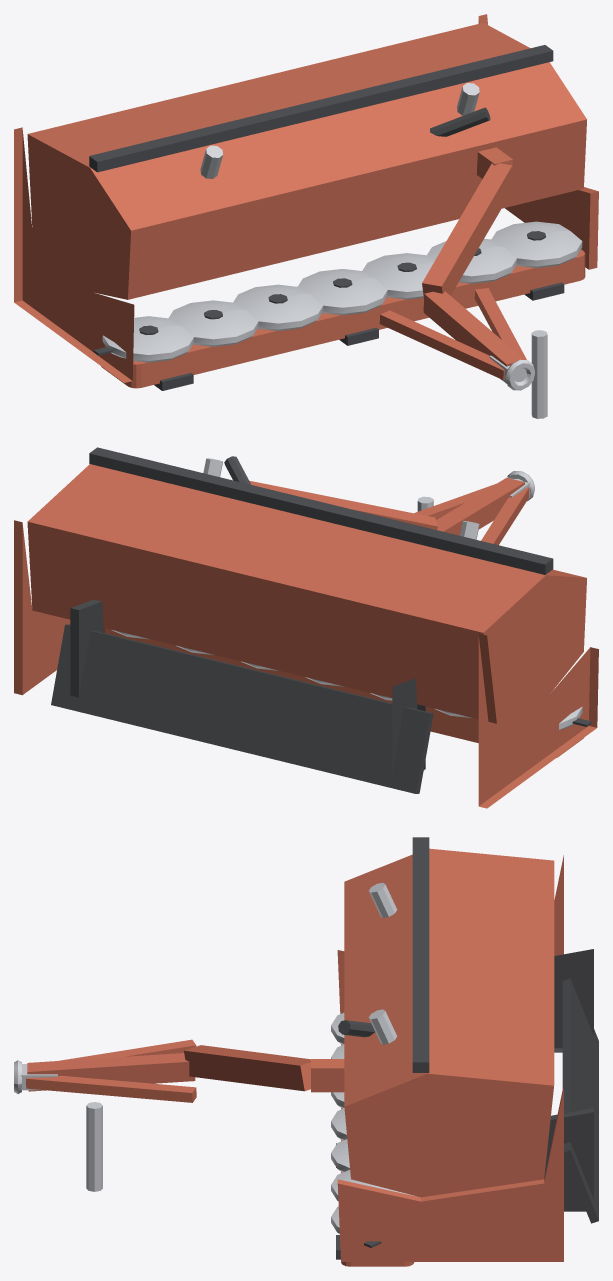
File: arable-fields-and-farm-machinery-mower-conditioner-d2c02d9d__16858.glb
The picture shows the model from 3 angles, top to bottom: view 1: azimuth 30°, elevation 25°; view 2: azimuth 150°, elevation 25°; view 3: azimuth 270°, elevation 25°; orthographic projection.
Visible parts, largest first — view 1: mower-conditioner; view 2: mower-conditioner; view 3: mower-conditioner.
Boxes of the visible parts, x1,y1,x2,y2 form: mower-conditioner: (14,14,598,418); mower-conditioner: (14,447,598,808); mower-conditioner: (14,837,598,1266).
Size of the model in its own units: 3.46 by 1.41 by 3.51.
